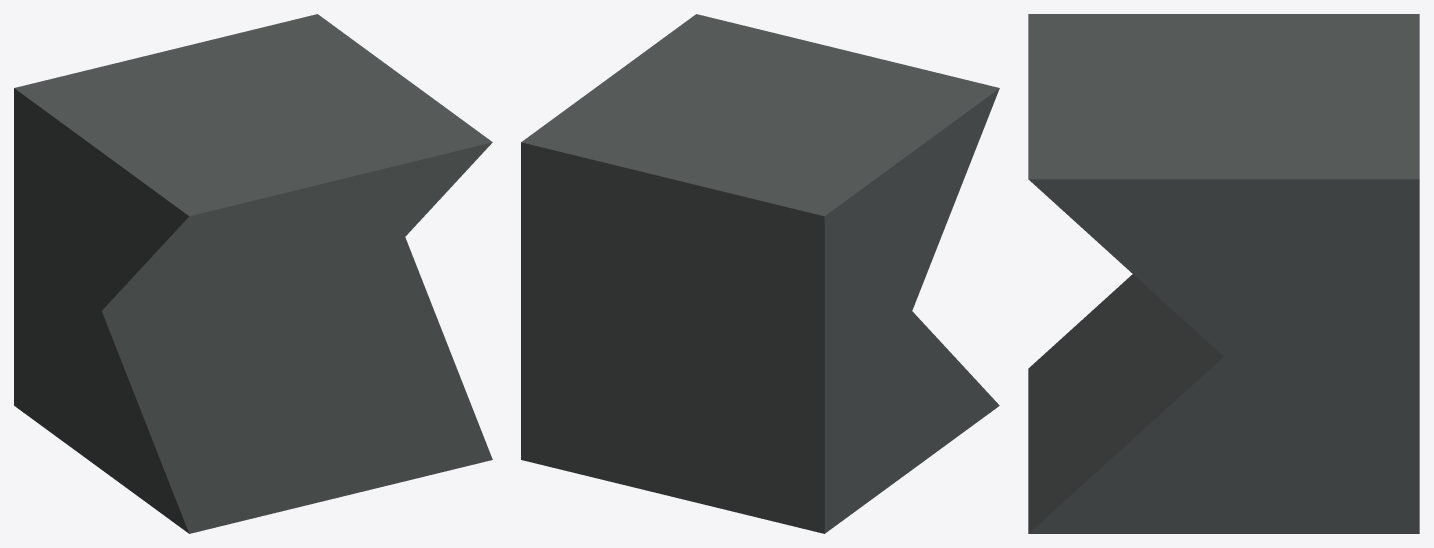
3 renders of one model, left to right at view 1: azimuth 30°, elevation 25°; view 2: azimuth 150°, elevation 25°; view 3: azimuth 270°, elevation 25°, orthographic. The views are drawn at different scales.
Parts seen in each view (by area): view 1: Quad; view 2: Quad; view 3: Quad.
Boxes of the visible parts, x1,y1,x2,y2 form: Quad: (14, 14, 492, 533); Quad: (521, 14, 999, 533); Quad: (1028, 14, 1419, 533).
Size of the model in its own units: 2 by 2 by 2.
